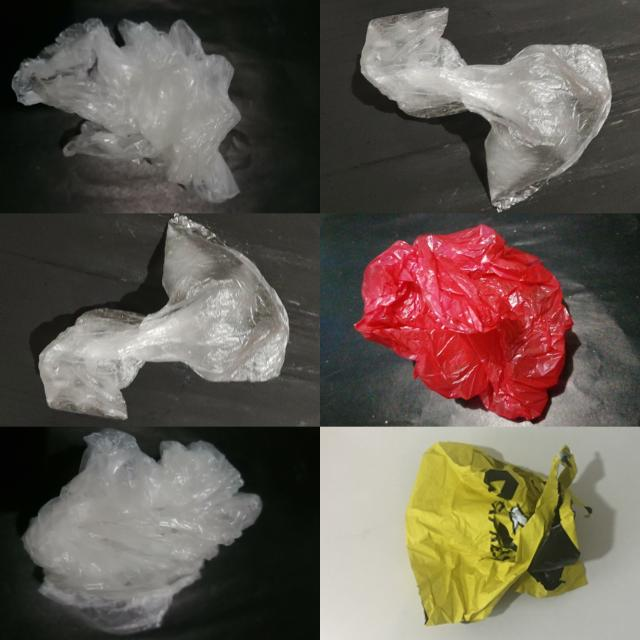Single-layer Plastic: (39, 215, 289, 419), (360, 8, 612, 210), (23, 429, 261, 633), (355, 225, 573, 419), (13, 19, 240, 202), (405, 442, 587, 624)
